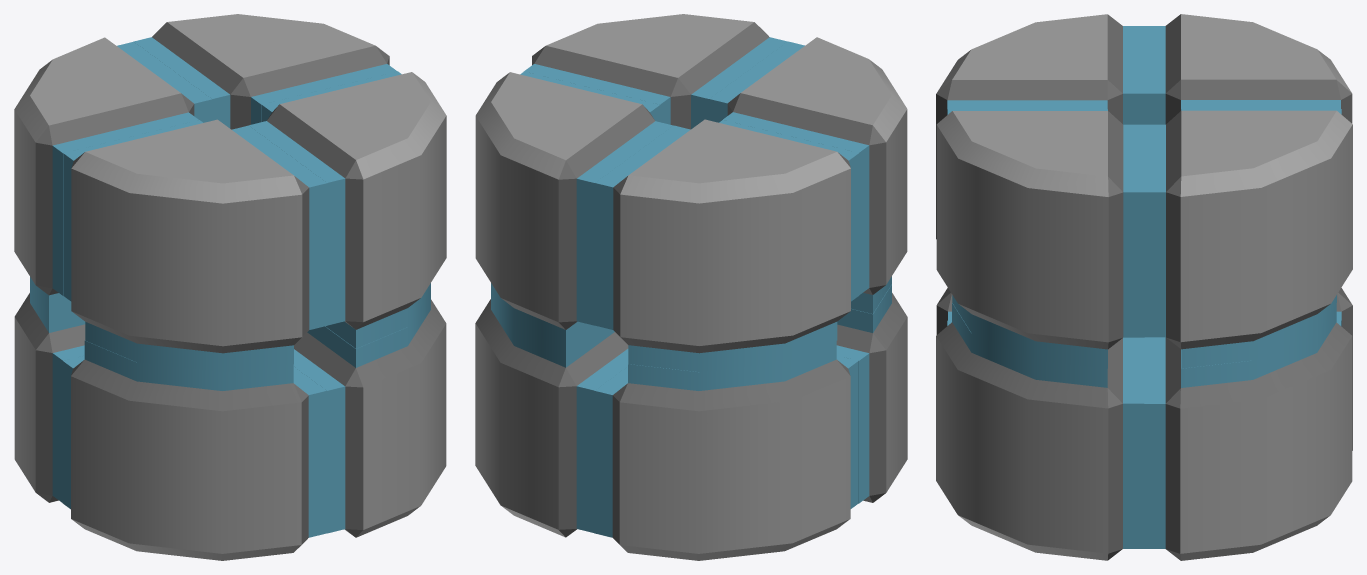
Rendered from Form_Cylinder.fbx.
3 renders of one model, left to right at view 1: azimuth 30°, elevation 25°; view 2: azimuth 150°, elevation 25°; view 3: azimuth 270°, elevation 25°, orthographic.
Parts seen in each view (by area): view 1: Form_Cylinder_P01, Form_Cylinder_P05, Form_Cylinder_P02, Form_Cylinder_P06, Form_Cylinder_P03, Form_Cylinder_P04, Form_Cylinder_P07; view 2: Form_Cylinder_P03, Form_Cylinder_P07, Form_Cylinder_P04, Form_Cylinder_P08, Form_Cylinder_P01, Form_Cylinder_P02, Form_Cylinder_P05; view 3: Form_Cylinder_P04, Form_Cylinder_P02, Form_Cylinder_P08, Form_Cylinder_P06, Form_Cylinder_P01, Form_Cylinder_P03, Form_Cylinder_P07, Form_Cylinder_P05.
Part boxes in pixels (x1,y1,x2,y2): Form_Cylinder_P01: (63, 119, 327, 372); Form_Cylinder_P05: (62, 340, 326, 560); Form_Cylinder_P02: (249, 71, 446, 348); Form_Cylinder_P06: (293, 291, 446, 537); Form_Cylinder_P03: (14, 37, 212, 314); Form_Cylinder_P04: (134, 14, 397, 129); Form_Cylinder_P07: (14, 285, 85, 502); Form_Cylinder_P03: (595, 119, 859, 371); Form_Cylinder_P07: (594, 341, 858, 560); Form_Cylinder_P04: (475, 71, 673, 348); Form_Cylinder_P08: (475, 291, 628, 537); Form_Cylinder_P01: (709, 37, 907, 313); Form_Cylinder_P02: (524, 14, 787, 129); Form_Cylinder_P05: (836, 284, 907, 503); Form_Cylinder_P04: (1144, 109, 1352, 368); Form_Cylinder_P02: (936, 109, 1144, 368); Form_Cylinder_P08: (1144, 304, 1352, 560); Form_Cylinder_P06: (936, 303, 1144, 560); Form_Cylinder_P01: (936, 14, 1144, 239); Form_Cylinder_P03: (1144, 14, 1352, 124); Form_Cylinder_P07: (1336, 288, 1352, 450); Form_Cylinder_P05: (936, 288, 952, 334).
Size of the model in its own units: 54.61 by 55.58 by 54.61.
